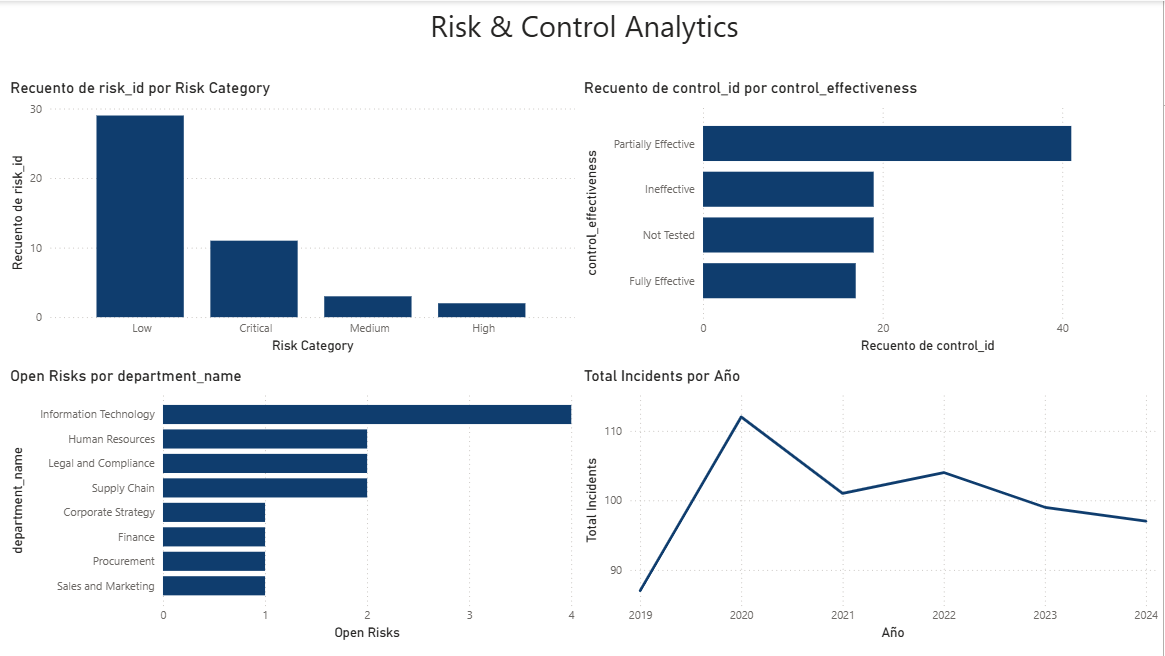

Layout of this report page (visuals, bound fields, positions):
{"tool":"powerbi","page":{"name":"Risk & Control Analytics","canvas":[1280,720],"ordinal":1},"visuals":[{"type":"textbox","box":[9.6,0,1270.7,85.1],"z":0},{"type":"clusteredColumnChart","fields":{"Category":["risks.Risk Category"],"Y":["CountNonNull(risks.risk_id)"]},"box":[9.6,85.1,629.8,306],"z":1000},{"type":"clusteredBarChart","fields":{"Category":["controls.control_effectiveness"],"Y":["CountNonNull(controls.control_id)"]},"box":[639.5,85.1,640.8,306],"z":2000},{"type":"clusteredBarChart","fields":{"Category":["departments.department_name"],"Y":["Medidas.Open Risks"]},"box":[10,401,630,306],"z":3000},{"type":"lineChart","fields":{"Category":["compliance_incidents.incident_date.Variación.Jerarquía de fechas.Año"],"Y":["Medidas.Total Incidents"]},"box":[640,401,640,306],"z":4000}]}

Visuals, with their boxes in screenshot pixels (x1, y1, x2, y2), scaled from the page's 1280x720 canvas onto the 1165x656 screenshot:
textbox: bbox=[9, 0, 1164, 78]
clusteredColumnChart - risks.Risk Category x CountNonNull(risks.risk_id): bbox=[9, 78, 582, 356]
clusteredBarChart - controls.control_effectiveness x CountNonNull(controls.control_id): bbox=[582, 78, 1164, 356]
clusteredBarChart - departments.department_name x Medidas.Open Risks: bbox=[9, 365, 582, 644]
lineChart - compliance_incidents.incident_date.Variación.Jerarquía de fechas.Año x Medidas.Total Incidents: bbox=[582, 365, 1164, 644]
